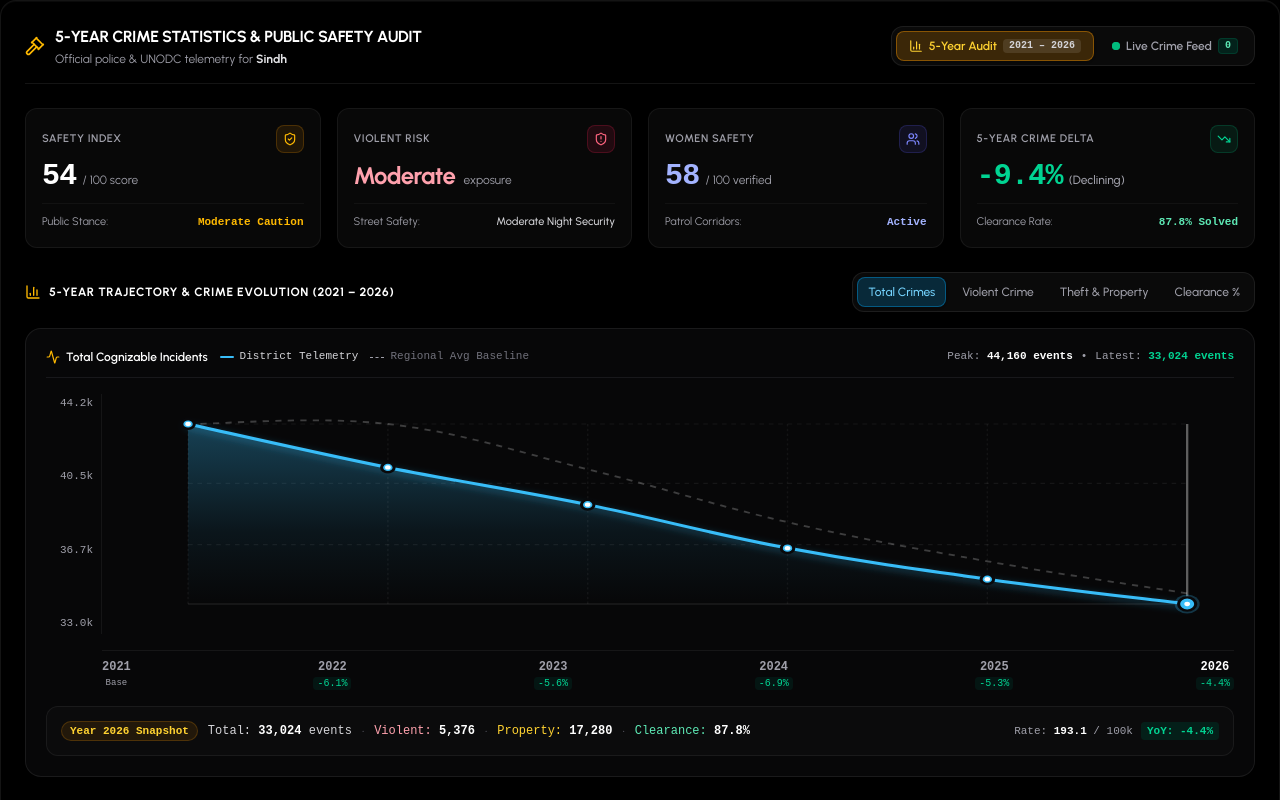
CrimeStatisticsVisualizer component › renders metric switcher buttons and changes active metric
Step 1. Click the button "Violent Crime" → x=998, y=292, box [952,278,1044,306]
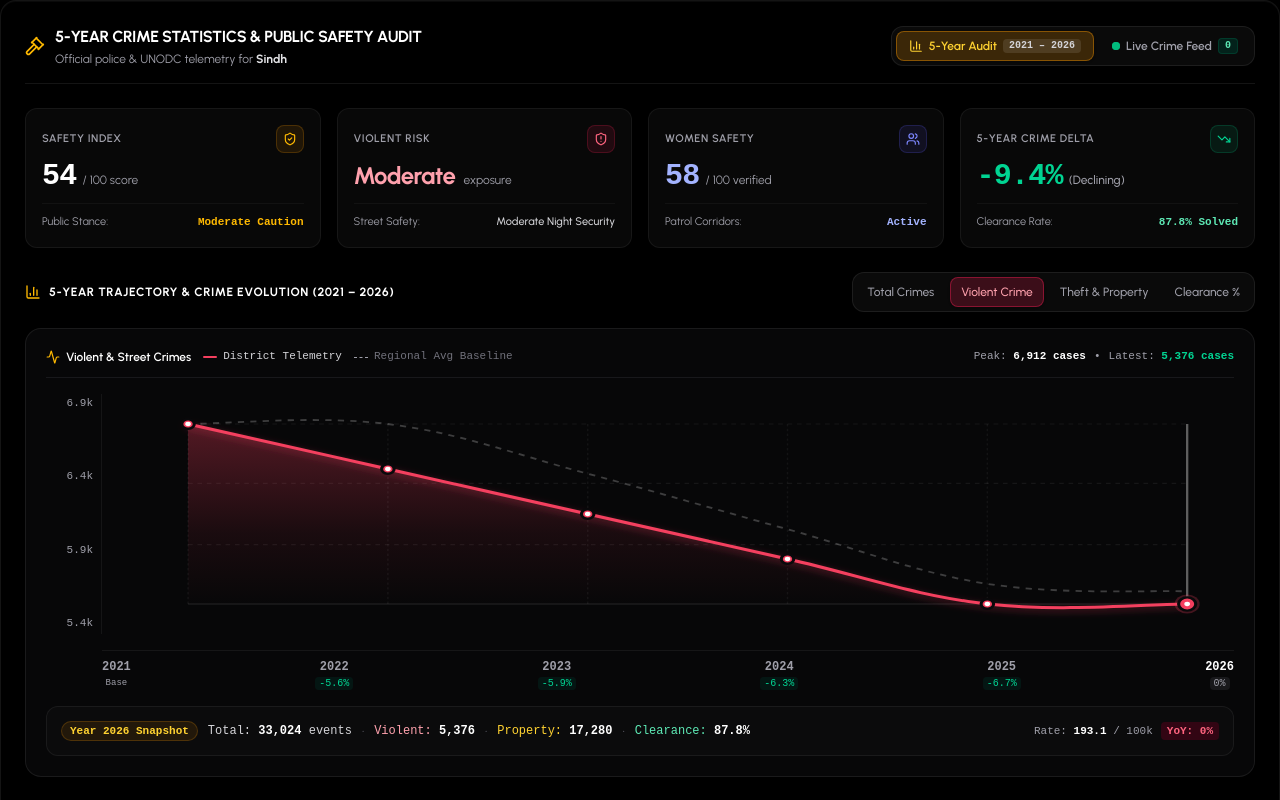
Now the text "Violent & Street Crimes" is shown, box [46,348,191,364]
Step 2. Click the button "Clearance %" → x=1207, y=292, box [1164,278,1250,306]
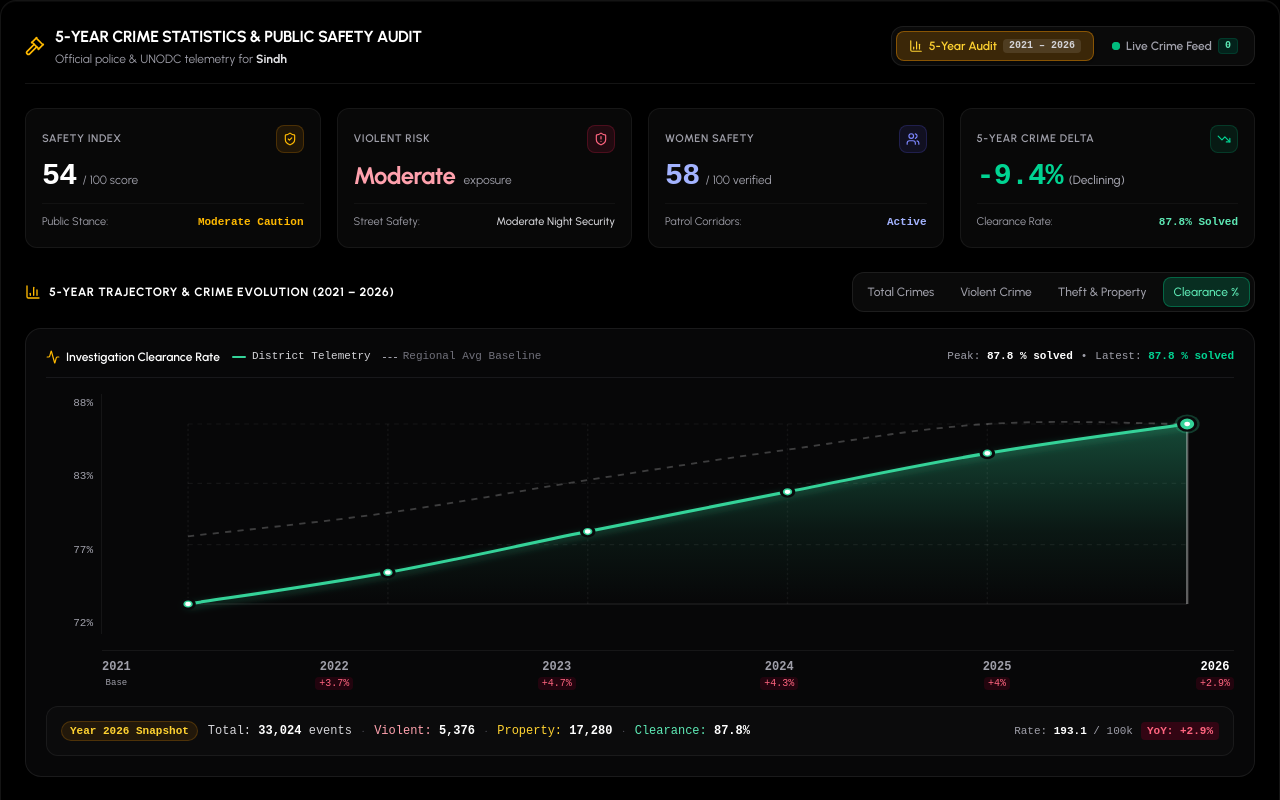
Now the text "Investigation Clearance Rate" is shown, box [46,348,220,364]
